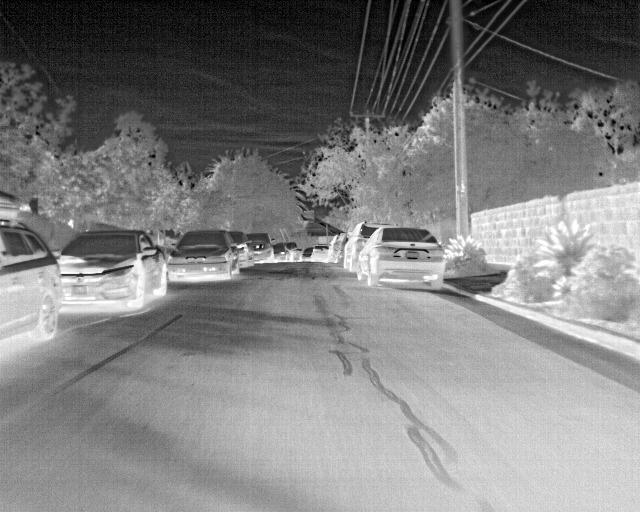car: (53, 230, 167, 310), (1, 220, 61, 346), (358, 225, 446, 288), (166, 229, 241, 277), (340, 223, 376, 270), (244, 232, 272, 263), (227, 228, 250, 264), (328, 232, 344, 262), (302, 246, 325, 261), (283, 239, 301, 258), (272, 242, 291, 260)
